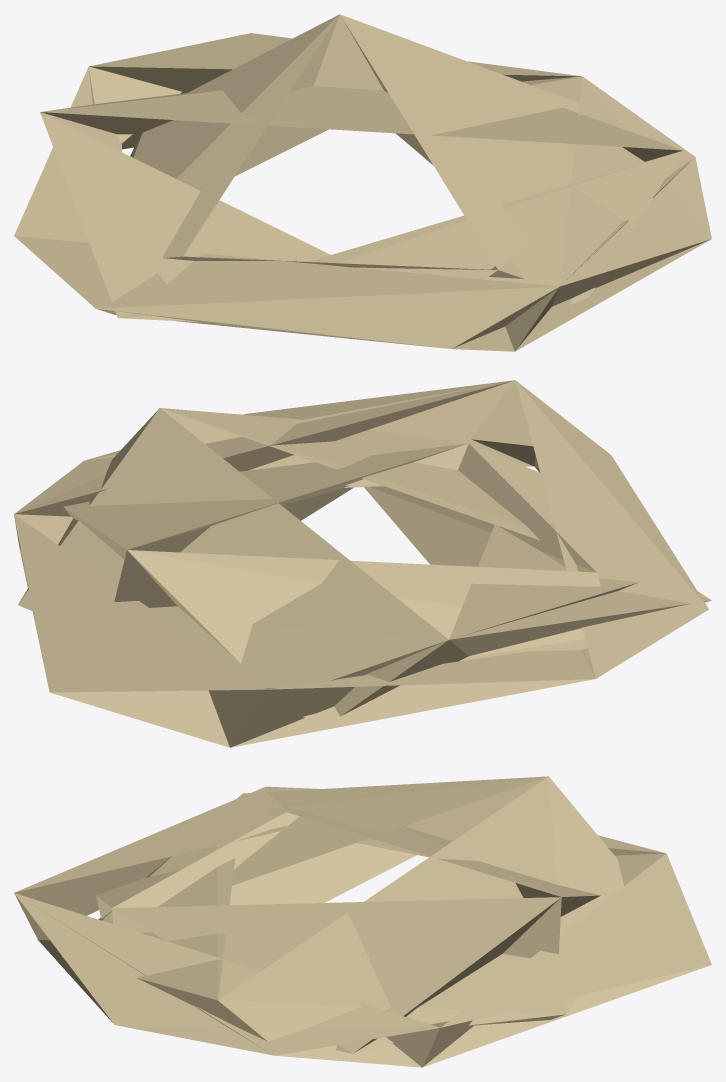
The model's file is beach.rope.lod2.glb.
3 views of the same model, one above another, from view 1: azimuth 30°, elevation 25°; view 2: azimuth 150°, elevation 25°; view 3: azimuth 270°, elevation 25° (orthographic). The views are drawn at different scales.
Parts seen in each view (by area): view 1: Coil.002, Coil.001, Coil; view 2: Coil.002, Coil.001, Coil; view 3: Coil.002, Coil.001, Coil.
Boxes of the visible parts, x1=… form: Coil.002: x1=14, y1=33, x2=711, y2=351; Coil.001: x1=40, y1=86, x2=682, y2=321; Coil: x1=130, y1=14, x2=579, y2=279; Coil.002: x1=14, y1=380, x2=708, y2=747; Coil.001: x1=18, y1=408, x2=711, y2=718; Coil: x1=63, y1=443, x2=600, y2=663; Coil.002: x1=14, y1=786, x2=711, y2=1067; Coil.001: x1=62, y1=776, x2=623, y2=1041; Coil: x1=96, y1=811, x2=600, y2=1053.
Size of the model in its own units: 0.648 by 0.1175 by 0.7079.
